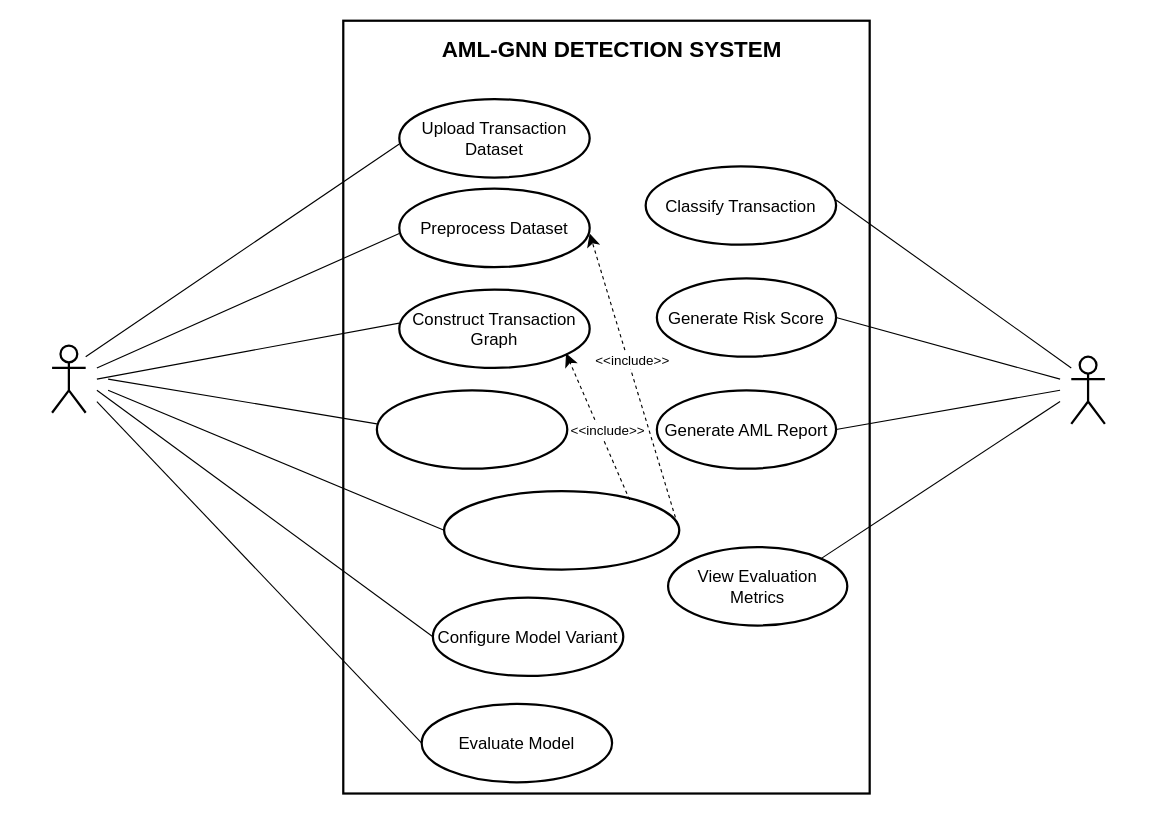
The diagram is 1154 pixels wide and 813 high, and some of its shapes have lost their labels. The box of each missing label's shape, as (x1, y1, x2, y2) in pixels:
AML Analyst: (1070, 355, 1105, 424)
Select GNN Model: (375, 389, 568, 469)
System Administrator: (50, 344, 86, 413)
Train Model: (442, 489, 680, 570)
